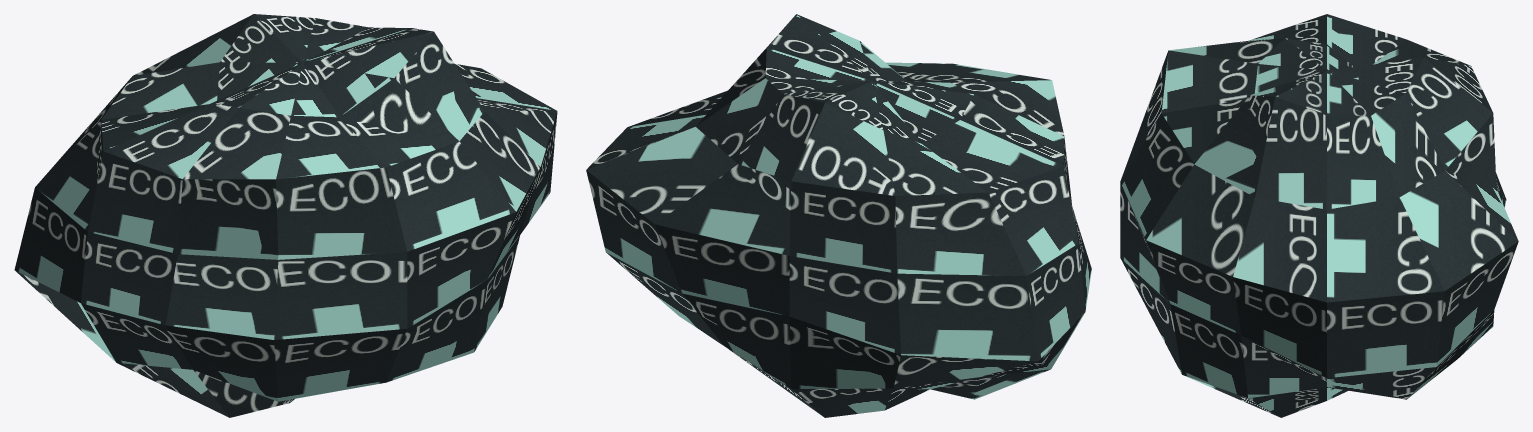
Rendered from rock_large_LOD1.obj.
3 views of the same model, side by side, from view 1: azimuth 30°, elevation 25°; view 2: azimuth 150°, elevation 25°; view 3: azimuth 270°, elevation 25° (orthographic). The views are drawn at different scales.
Visible parts, largest first — view 1: L02_rock_large_LOD1; view 2: L02_rock_large_LOD1; view 3: L02_rock_large_LOD1.
Boxes of the visible parts, left/top/right/bottom form: L02_rock_large_LOD1: left=14, top=14, right=557, bottom=417; L02_rock_large_LOD1: left=586, top=14, right=1091, bottom=417; L02_rock_large_LOD1: left=1120, top=14, right=1518, bottom=417.
Bounding box in the file's own units: 6.24 × 4.17 × 4.49.
1 material, 1 textured.
